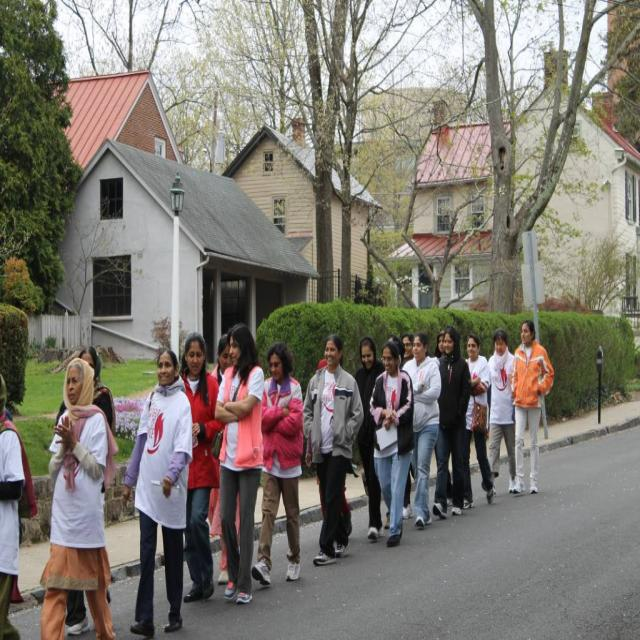body: (36, 351, 120, 639), (118, 342, 194, 639), (54, 344, 118, 637), (212, 320, 267, 606), (300, 332, 364, 568), (249, 340, 305, 590), (180, 331, 224, 606), (366, 337, 417, 551), (0, 368, 38, 640), (304, 356, 354, 543), (208, 332, 242, 588), (508, 316, 555, 494), (400, 331, 442, 529), (431, 324, 473, 521), (432, 327, 473, 512), (353, 334, 387, 542), (461, 332, 496, 507), (488, 329, 518, 495), (4, 400, 34, 552), (397, 332, 417, 521), (388, 333, 407, 370)
